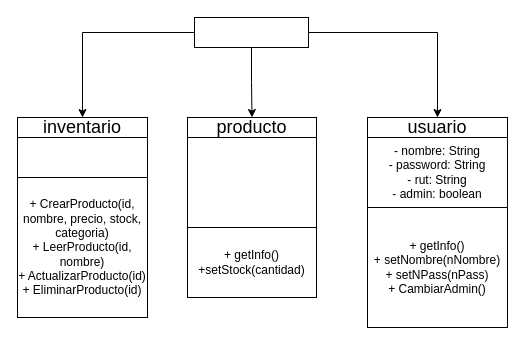
The diagram is 525 pixels wide and 345 high, and some of its shapes have lost their labels. The centre of each missing label's shape, as x and y in pixels:
"- id: int - nombre: String - precio: int - stock: int - categoria: int" goes at point (251, 182).
"- inventario: Lista" goes at point (82, 157).
"Main" goes at point (251, 32).
